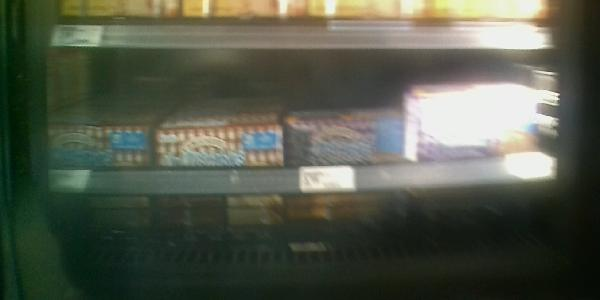icecream: (406, 68, 543, 161), (283, 111, 412, 166), (42, 114, 153, 175), (157, 122, 285, 174)
